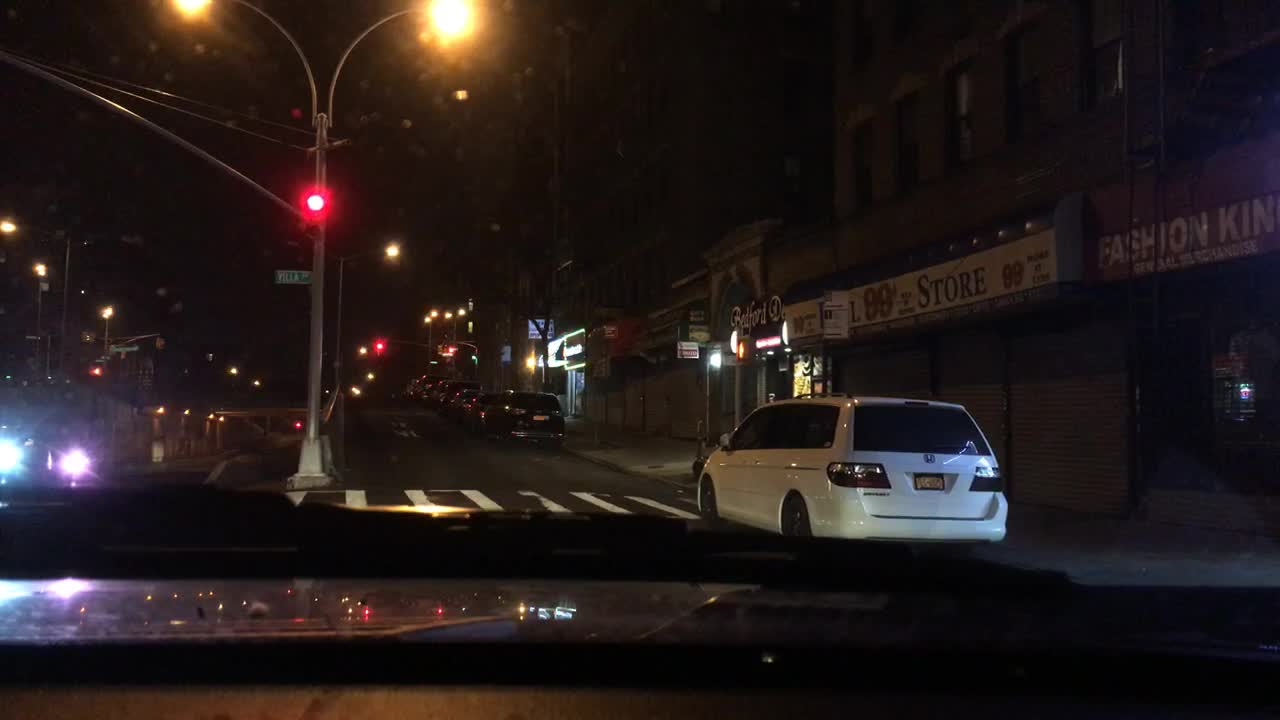car: (693, 390, 1009, 560), (0, 418, 99, 494), (483, 385, 570, 451), (435, 378, 482, 420), (447, 387, 494, 425), (413, 371, 452, 404), (418, 380, 438, 404), (398, 377, 420, 398)
traffic light: (305, 187, 325, 231), (735, 336, 756, 361), (87, 363, 104, 378), (152, 336, 165, 351), (442, 344, 459, 354), (374, 337, 383, 354), (294, 420, 302, 430)
traffic sign: (271, 266, 314, 287), (109, 342, 136, 354), (23, 331, 44, 341)
